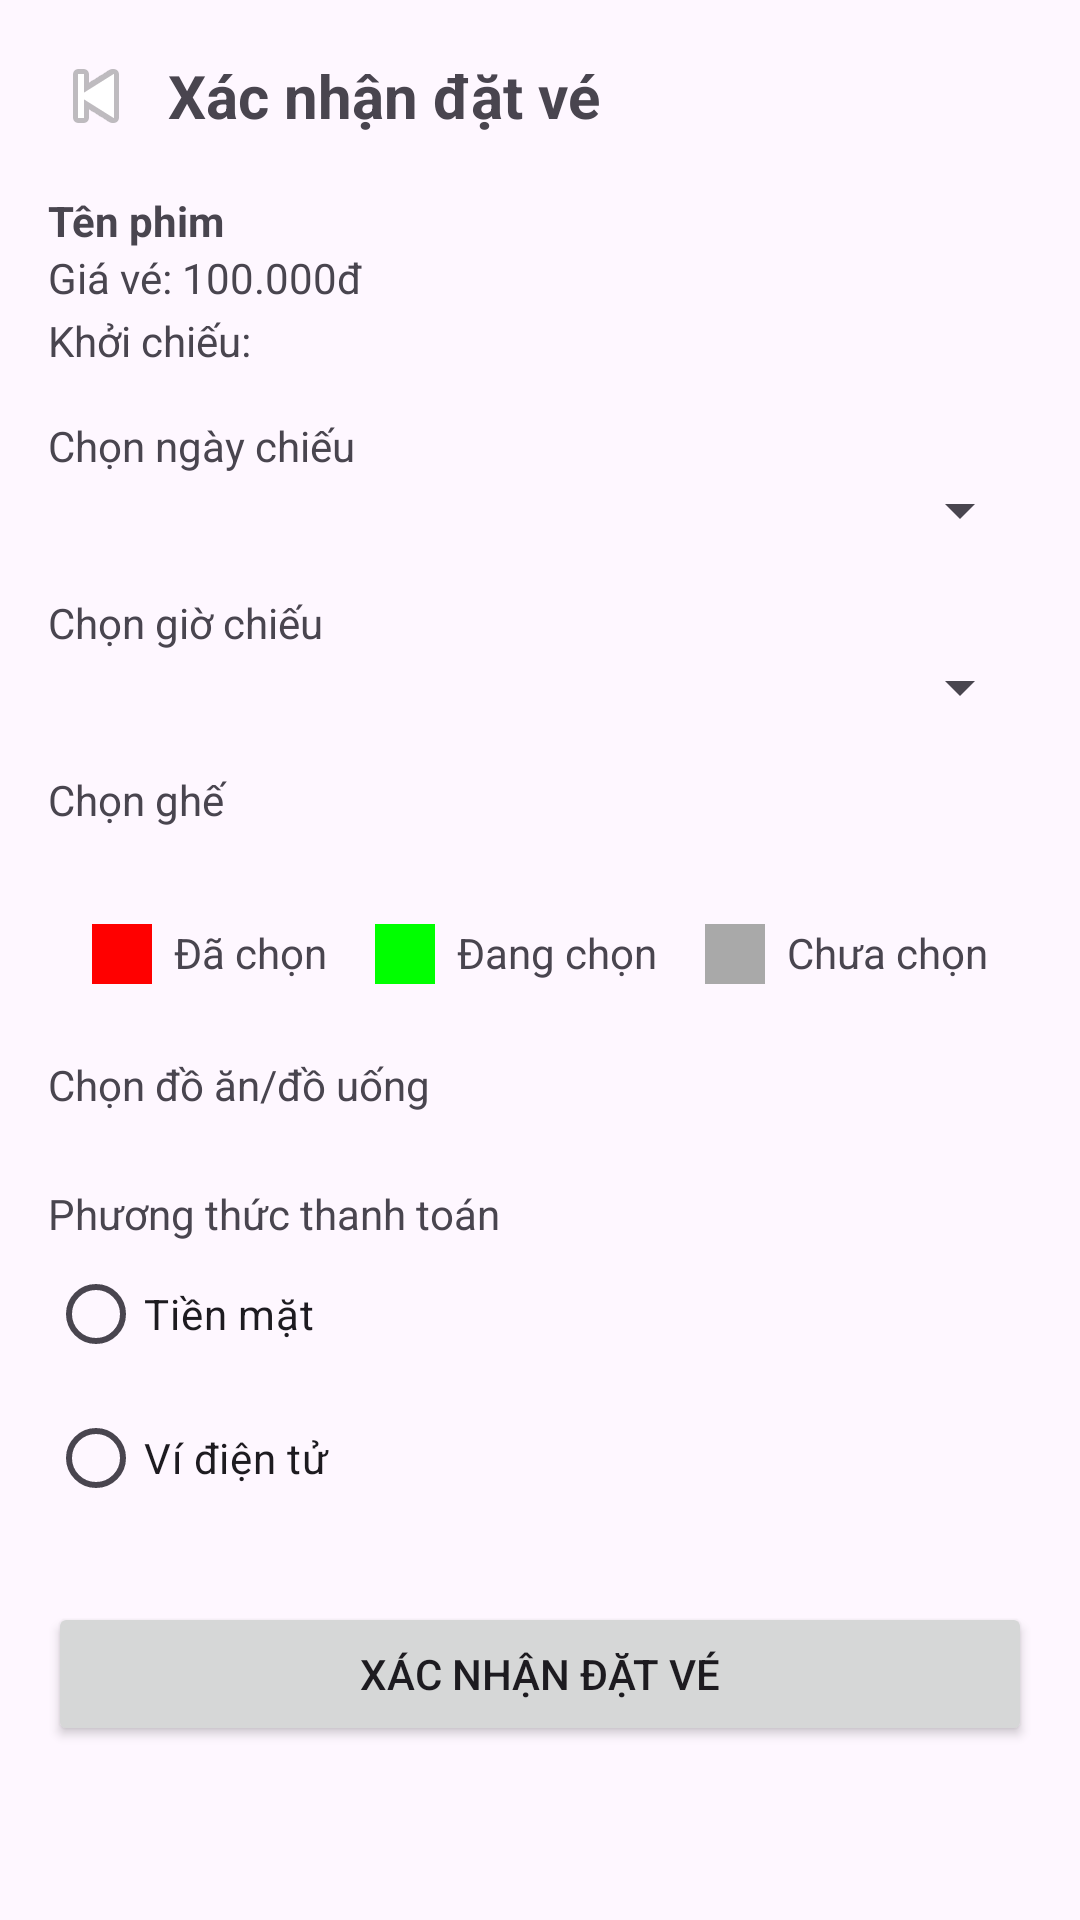

Locate icon controls on the screen. Image size 1080 × 1920, boxes as bbox=(x1, y1, x2, y2).
previous: bbox=(73, 69, 119, 123)
